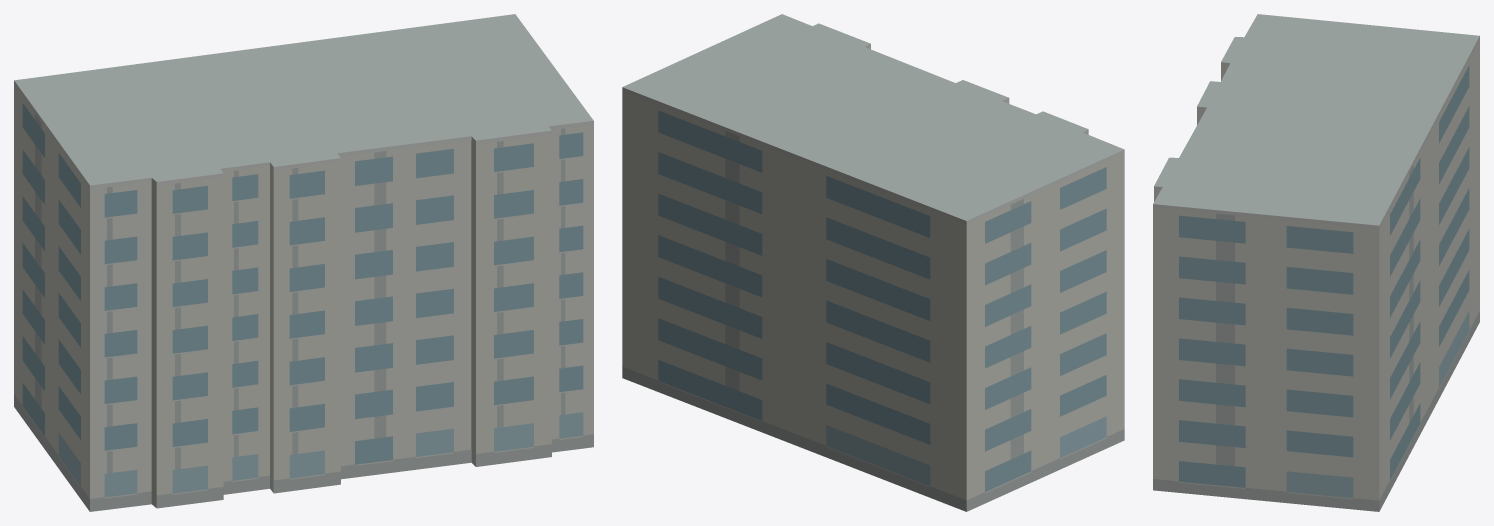
Rendered from survey-upis-32875014.glb.
The picture shows the model from 3 angles, left to right: view 1: azimuth 30°, elevation 25°; view 2: azimuth 150°, elevation 25°; view 3: azimuth 270°, elevation 25°; orthographic projection. The views are drawn at different scales.
Parts seen in each view (by area): view 1: survey-upis-32875014.tmp; view 2: survey-upis-32875014.tmp; view 3: survey-upis-32875014.tmp.
Boxes of the visible parts, left/top/right/bottom form: survey-upis-32875014.tmp: left=14, top=14, right=593, bottom=511; survey-upis-32875014.tmp: left=622, top=14, right=1124, bottom=511; survey-upis-32875014.tmp: left=1153, top=14, right=1479, bottom=511.
Bounding box in the file's own units: 31.25 × 19.7 × 20.39.
